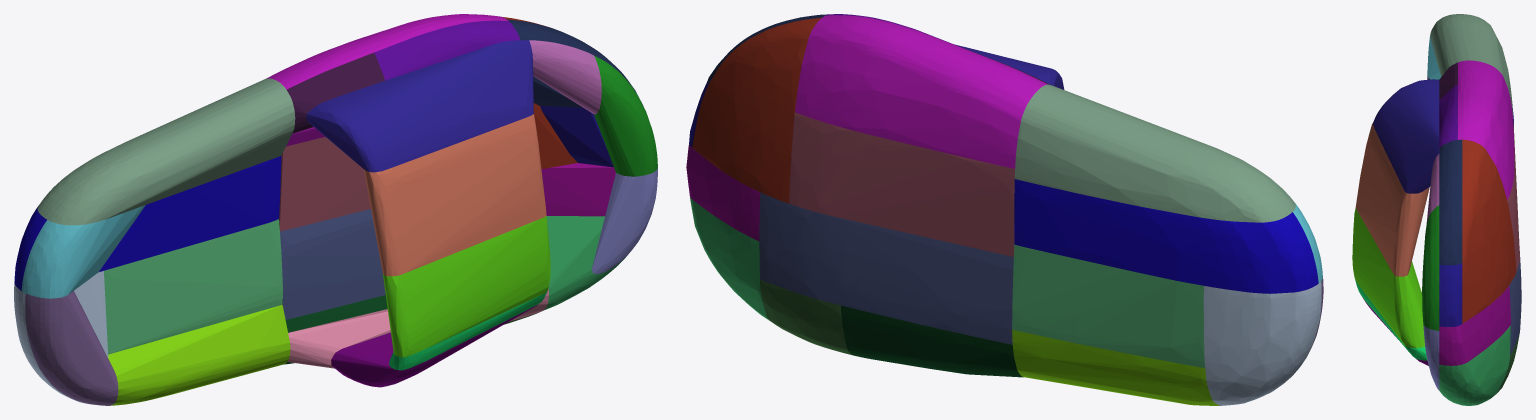
Rendered from coacd_collision.obj.
The picture shows the model from 3 angles, left to right: view 1: azimuth 30°, elevation 25°; view 2: azimuth 150°, elevation 25°; view 3: azimuth 270°, elevation 25°; orthographic projection. The views are drawn at different scales.
Parts seen in each view (by area): view 1: geometry_9, geometry_0, geometry_18, geometry_3, geometry_17, geometry_5, geometry_4, geometry_16, geometry_1, geometry_13, geometry_2, geometry_8 (+15 smaller); view 2: geometry_22, geometry_16, geometry_0, geometry_5, geometry_13, geometry_3, geometry_15, geometry_6, geometry_4, geometry_25, geometry_10, geometry_14 (+3 smaller); view 3: geometry_15, geometry_9, geometry_18, geometry_22, geometry_17, geometry_0, geometry_10, geometry_21, geometry_14, geometry_8, geometry_20, geometry_27 (+8 smaller).
Part boxes in pixels (<box>): geometry_9: <box>364,114,546,276</box>; geometry_0: <box>37,78,295,225</box>; geometry_18: <box>306,40,533,172</box>; geometry_3: <box>104,219,282,354</box>; geometry_17: <box>382,216,550,357</box>; geometry_5: <box>14,156,281,290</box>; geometry_4: <box>108,305,290,405</box>; geometry_16: <box>280,209,385,319</box>; geometry_1: <box>25,291,118,405</box>; geometry_13: <box>279,137,370,231</box>; geometry_2: <box>21,205,145,298</box>; geometry_8: <box>594,55,657,176</box>; geometry_22: <box>795,15,1047,168</box>; geometry_16: <box>759,192,1013,344</box>; geometry_0: <box>1014,84,1295,222</box>; geometry_5: <box>1014,179,1318,293</box>; geometry_13: <box>789,112,1014,256</box>; geometry_3: <box>1012,244,1205,367</box>; geometry_15: <box>692,17,821,203</box>; geometry_6: <box>1203,281,1321,405</box>; geometry_4: <box>1012,329,1219,405</box>; geometry_25: <box>841,305,1023,377</box>; geometry_10: <box>690,197,768,319</box>; geometry_14: <box>686,143,760,241</box>; geometry_15: <box>1462,139,1516,323</box>; geometry_9: <box>1355,123,1429,276</box>; geometry_18: <box>1373,79,1439,193</box>; geometry_22: <box>1458,60,1514,199</box>; geometry_17: <box>1352,208,1424,348</box>; geometry_0: <box>1430,14,1512,114</box>; geometry_10: <box>1439,325,1510,405</box>; geometry_21: <box>1439,139,1462,265</box>; geometry_14: <box>1439,286,1510,365</box>; geometry_8: <box>1422,205,1439,330</box>; geometry_20: <box>1439,263,1462,326</box>; geometry_27: <box>1439,84,1457,147</box>.
Size of the model in its own units: 215 by 106 by 61.13.
